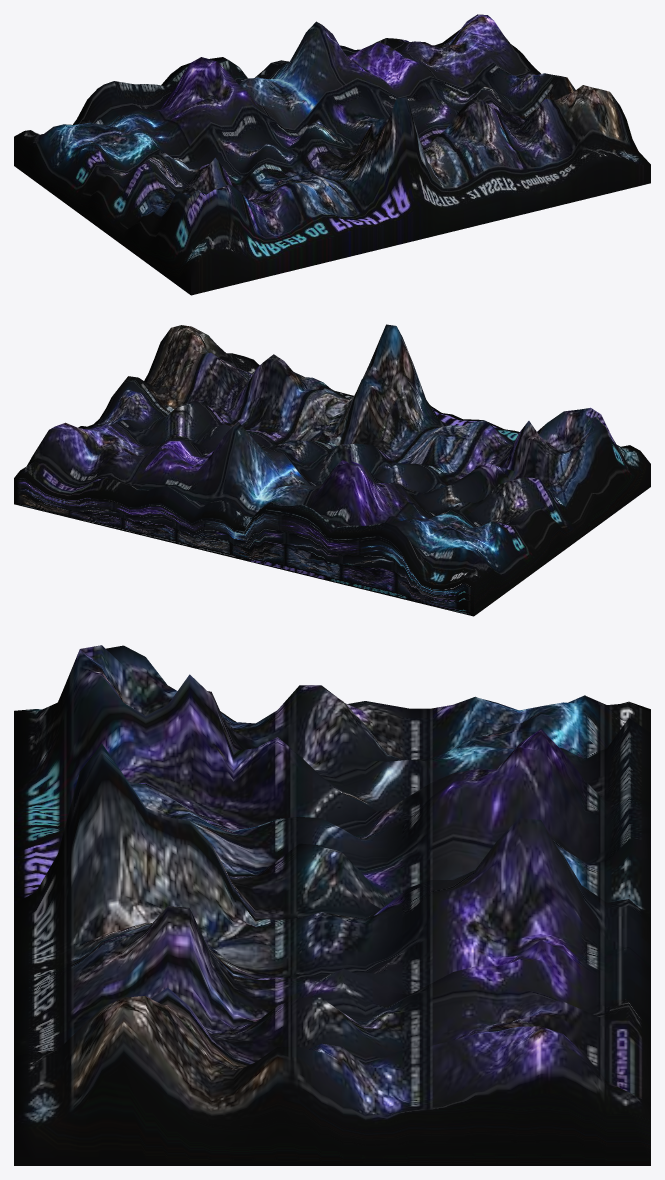
Rendered from CAREER_06_Poster_21.glb.
3 renders of one model, top to bottom at view 1: azimuth 30°, elevation 25°; view 2: azimuth 150°, elevation 25°; view 3: azimuth 270°, elevation 25°, orthographic. The views are drawn at different scales.
Visible parts, largest first — view 1: CAREER_06_Poster_21; view 2: CAREER_06_Poster_21; view 3: CAREER_06_Poster_21.
Boxes of the visible parts, box(x1,y1,x2,y2) form: CAREER_06_Poster_21: box(14, 14, 650, 295); CAREER_06_Poster_21: box(14, 324, 650, 616); CAREER_06_Poster_21: box(14, 645, 650, 1165).
Size of the model in its own units: 2 by 0.51 by 1.33.
1 material, 1 textured.
